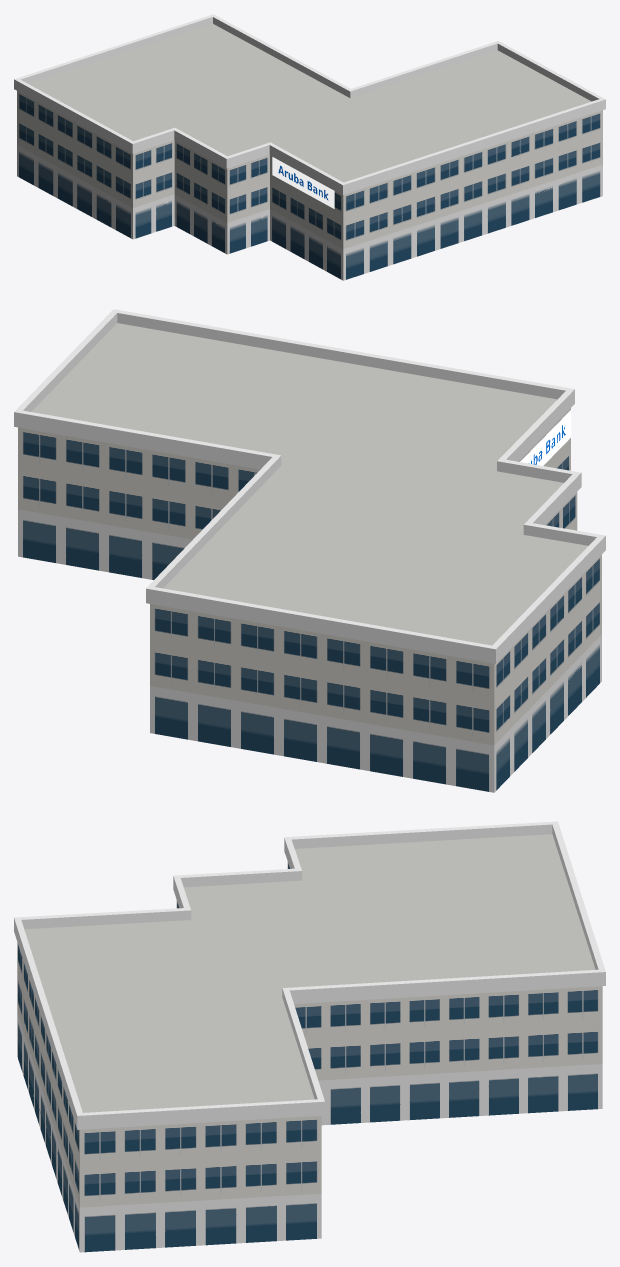
File: arubabank.glb
The picture shows the model from 3 angles, top to bottom: view 1: azimuth 30°, elevation 25°; view 2: azimuth 150°, elevation 25°; view 3: azimuth 270°, elevation 25°; orthographic projection. The views are drawn at different scales.
Visible parts, largest first — view 1: arubabank_lod0; view 2: arubabank_lod0; view 3: arubabank_lod0.
Part boxes in pixels (bbox=[...]): arubabank_lod0: bbox=[14, 14, 605, 280]; arubabank_lod0: bbox=[14, 309, 605, 792]; arubabank_lod0: bbox=[14, 821, 605, 1252].
Size of what is drawn, in the model's own units: 59.06 by 12.9 by 50.17.
5 materials, 3 textured.
